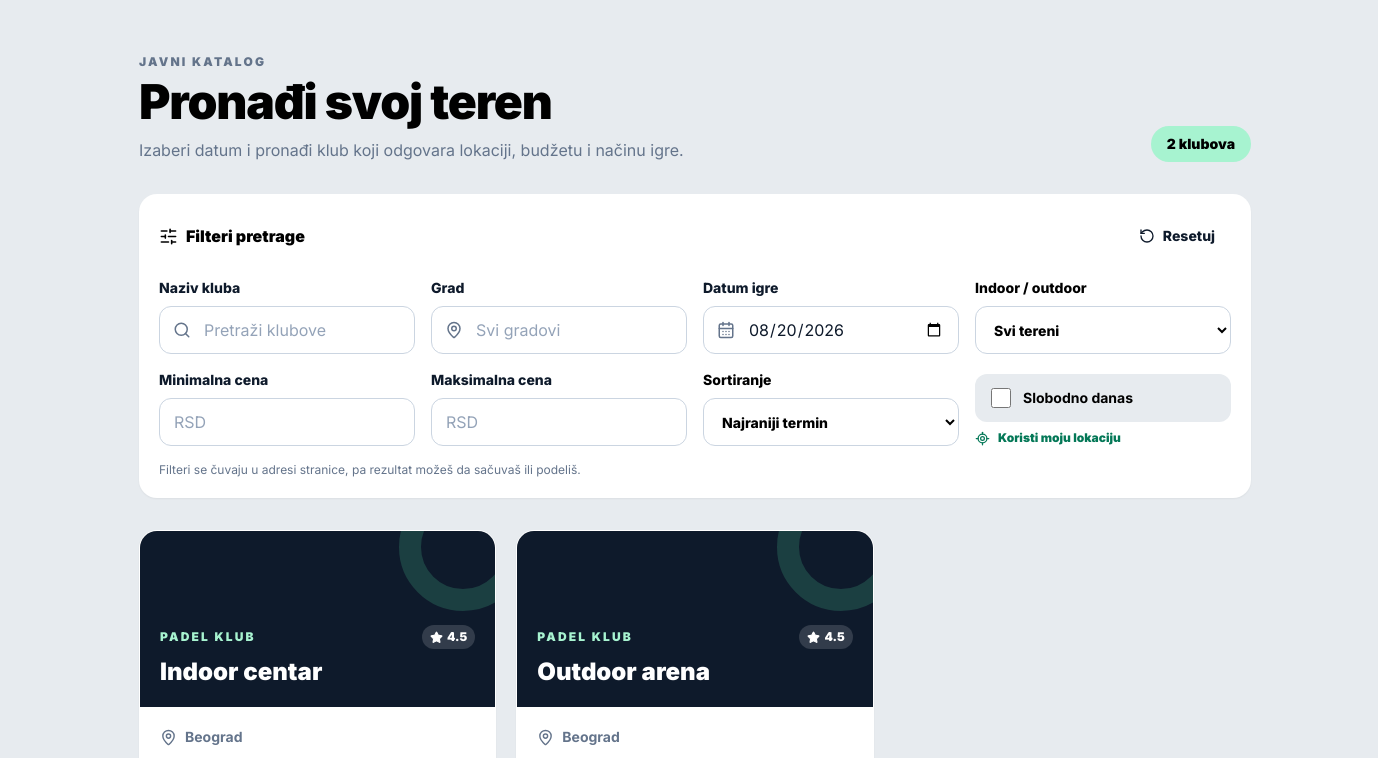
Test: ClubsPage advanced filters › filters by environment and stores the choice in the URL
Expected: the heading "Indoor centar" is shown, [160, 657, 322, 686]
Expected: the heading "Outdoor arena" is shown, [537, 657, 710, 686]
Select "Outdoor" in the dropdown labelled "Indoor / outdoor" at (1103, 330), box [975, 306, 1231, 354]
(page scrolled)
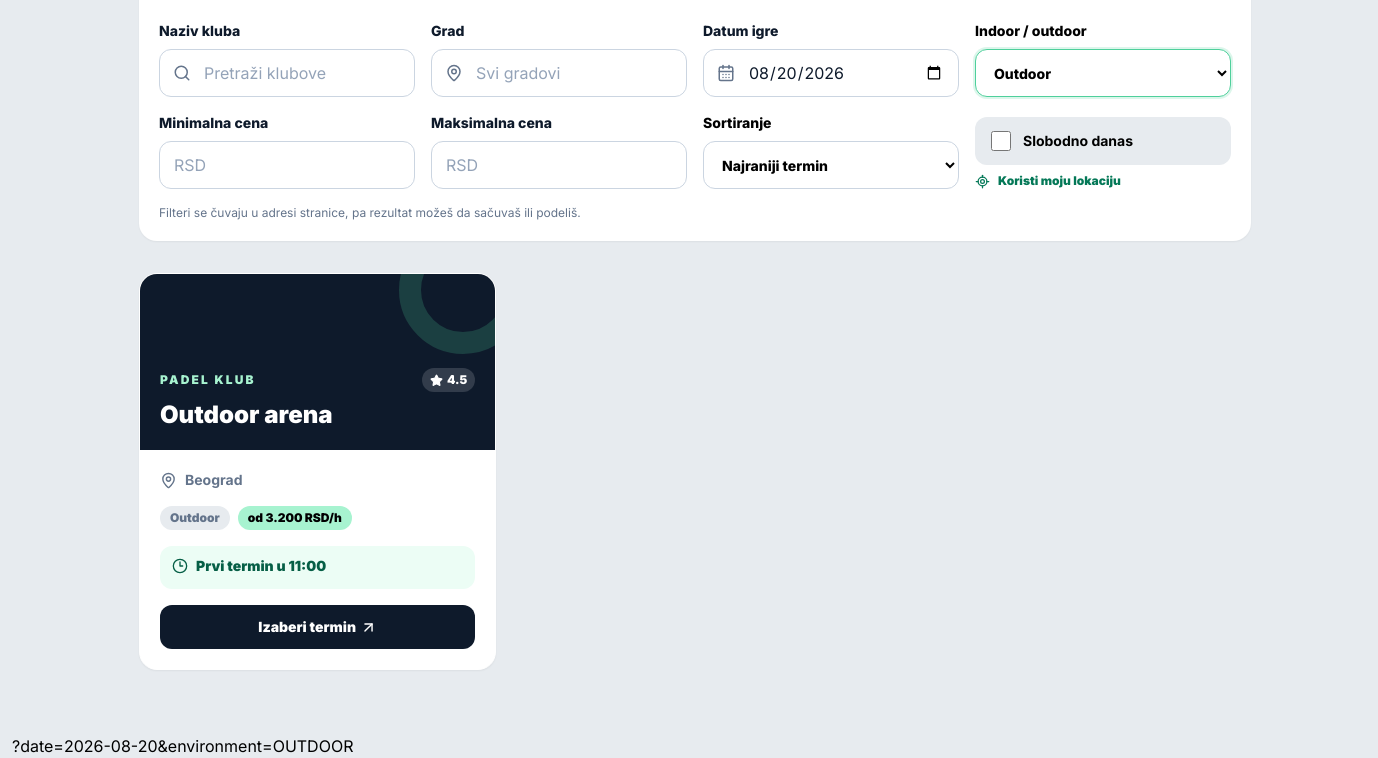
Expected: the heading "Outdoor arena" is shown, [160, 400, 333, 429]
Expected: the heading "Indoor centar" is gone
Expected: the text with test id "location" shows "environment=OUTDOOR", [12, 736, 353, 756]
